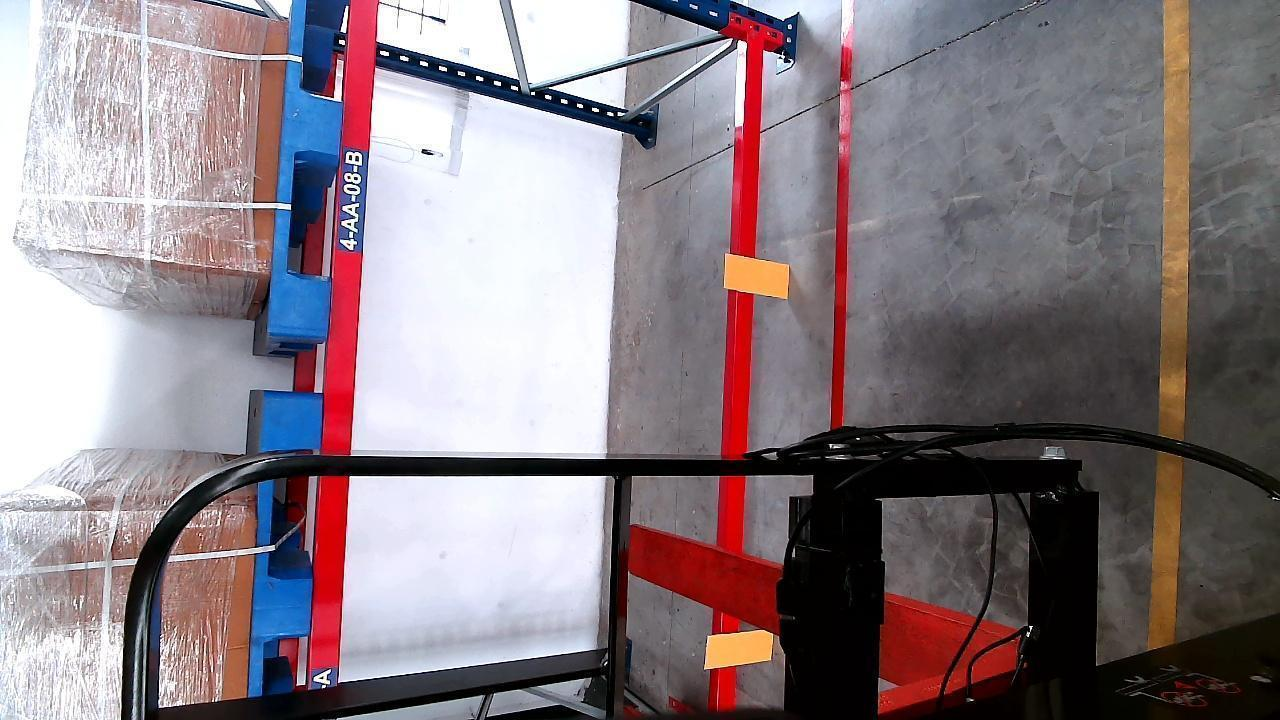red_line: (830, 7, 856, 435)
yellow_line: (1148, 0, 1192, 655)
